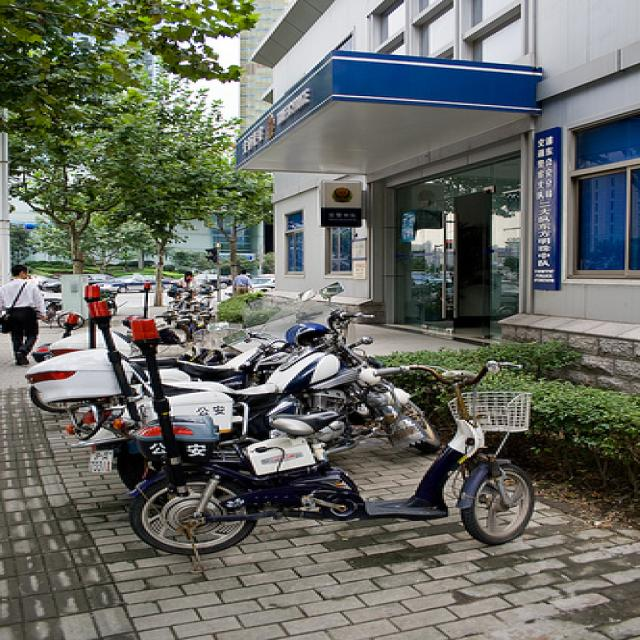motor: (127, 316, 546, 554), (62, 279, 449, 488), (23, 302, 323, 413), (125, 325, 257, 376), (46, 327, 125, 357), (167, 291, 215, 328), (154, 309, 194, 341)
